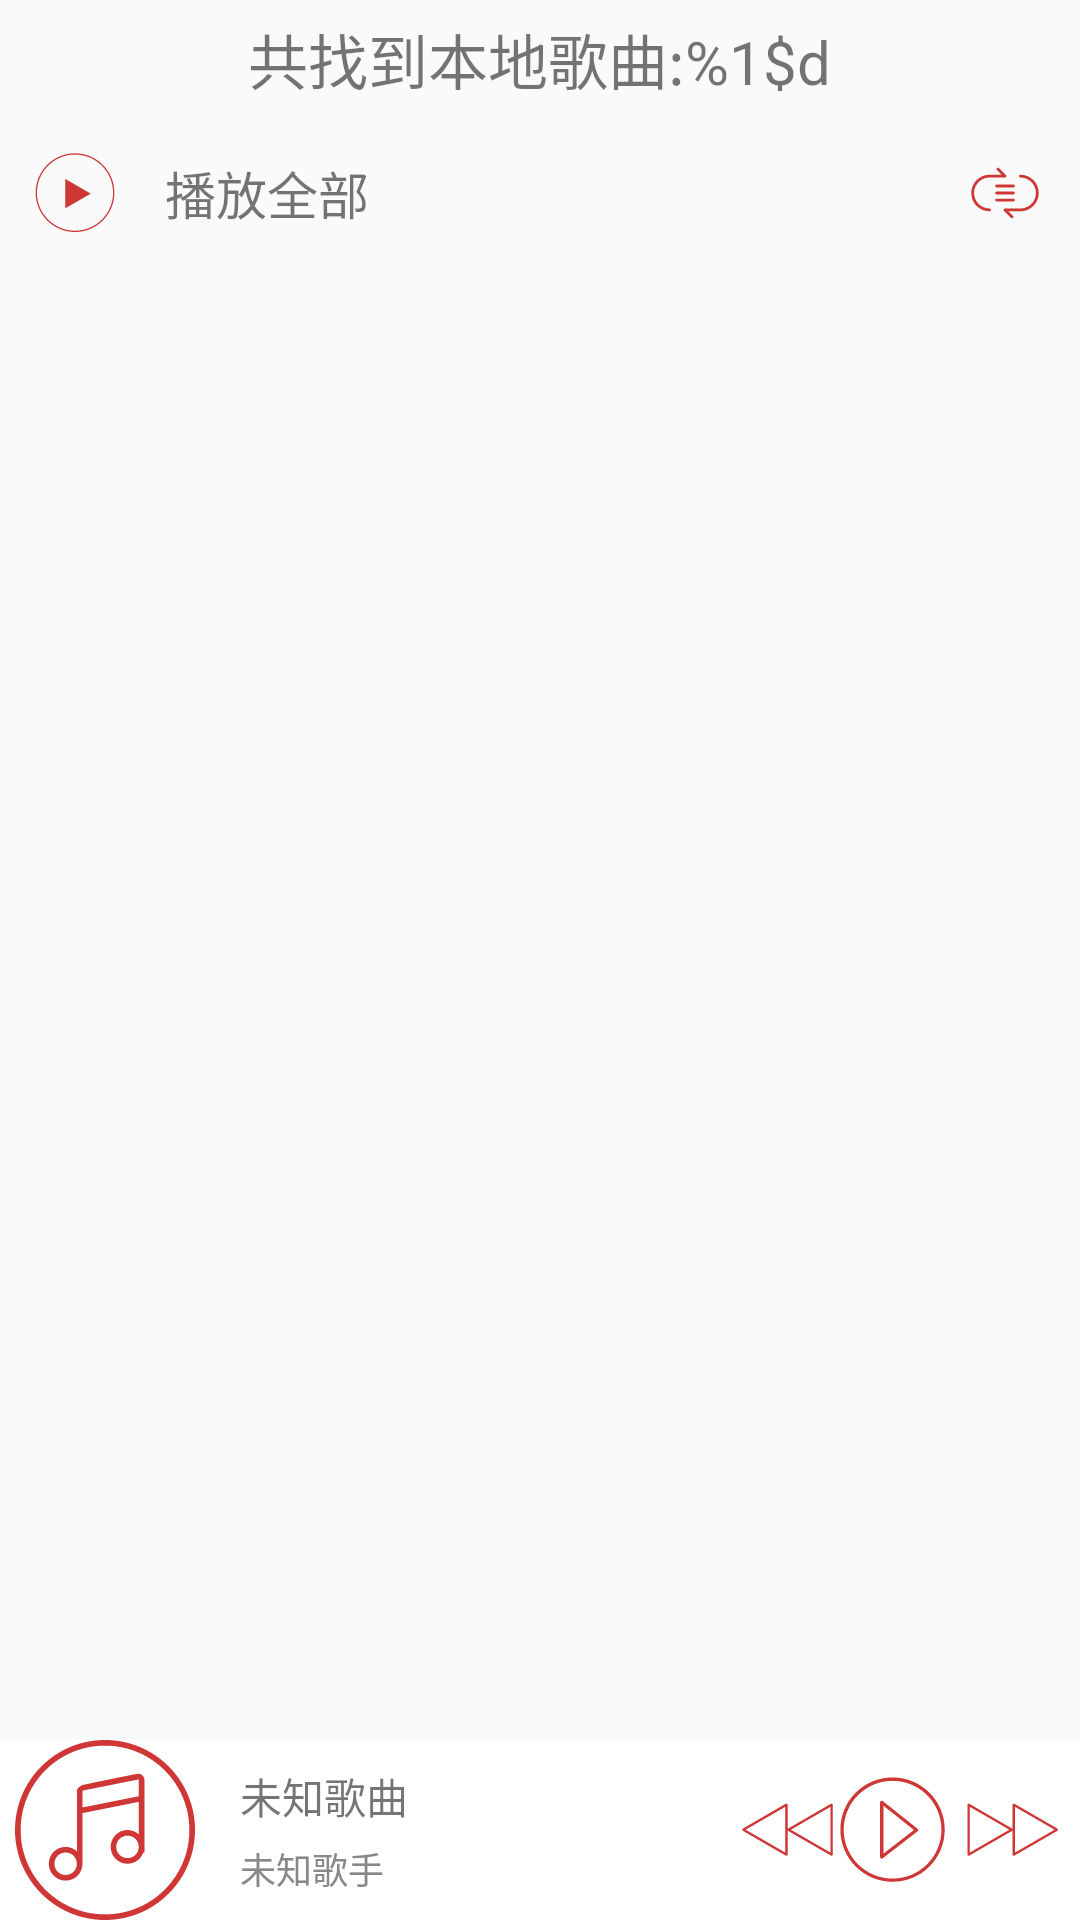

Icon bounding boxes for this 1080×1920 phone screenshot, format {"left": x1, "top": y1, "right": x2, "bottom": y2}:
last: {"left": 742, "top": 1803, "right": 833, "bottom": 1856}
next: {"left": 967, "top": 1803, "right": 1058, "bottom": 1856}
play: {"left": 35, "top": 153, "right": 115, "bottom": 232}
play empty: {"left": 840, "top": 1777, "right": 945, "bottom": 1882}
